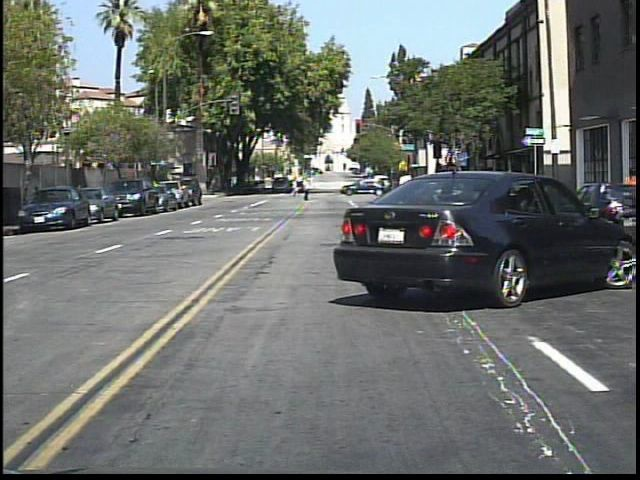person: (393, 161, 425, 242), (521, 167, 541, 223), (618, 165, 637, 221), (395, 171, 415, 206), (298, 173, 315, 204)
